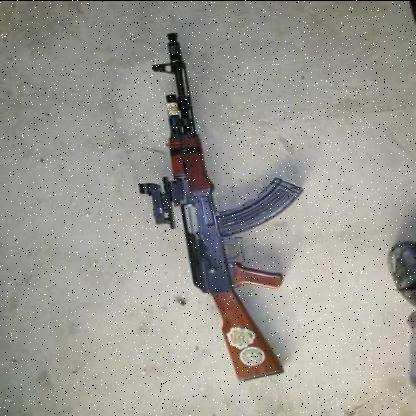rifle: (105, 19, 312, 395)
